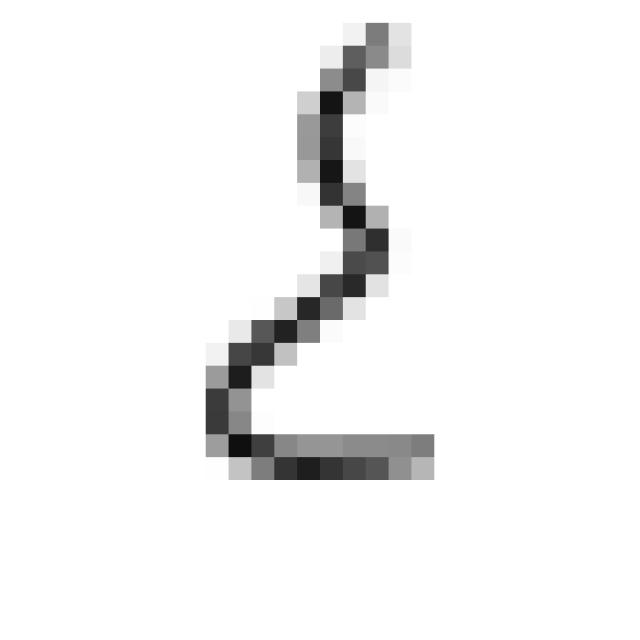4 -four-: (190, 7, 449, 501)
